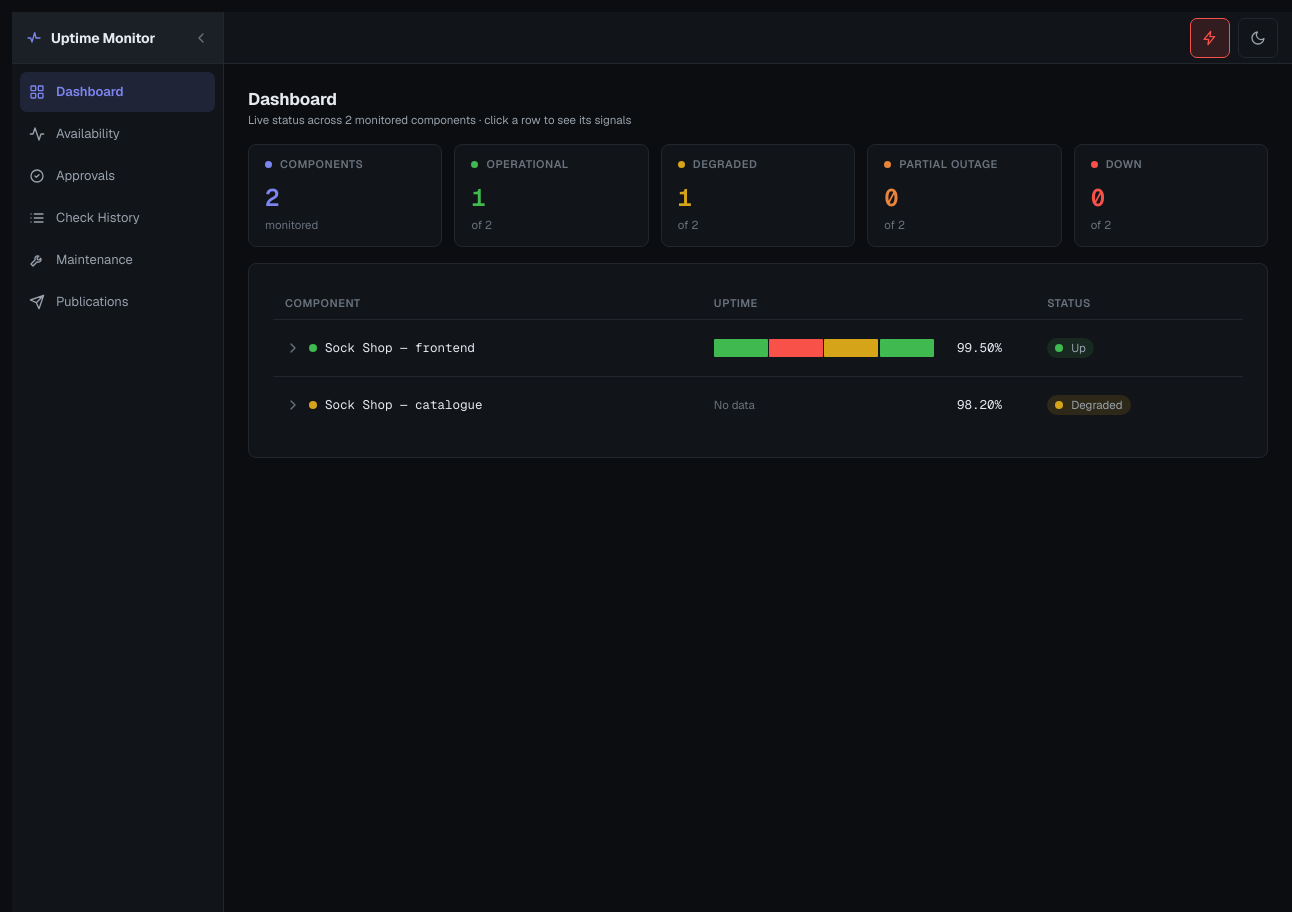
Test: AppShell routing › switches the active panel when a tab is clicked
This screenshot has width=1292, height=912.
Click the link "Availability" at (74, 133), box [29,125,120,142]
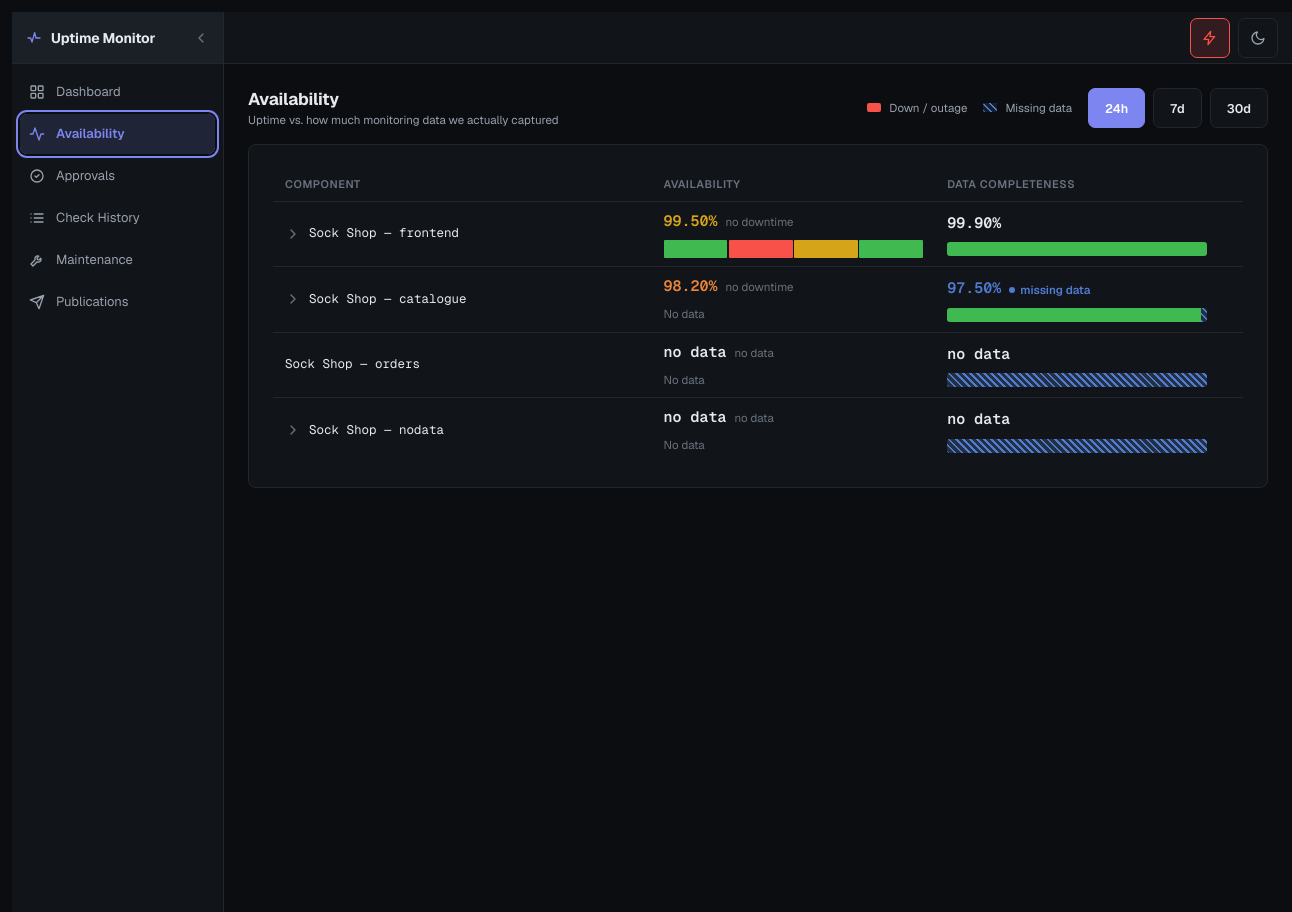
Now the heading "Availability" is shown, box [248,88,339,110]
